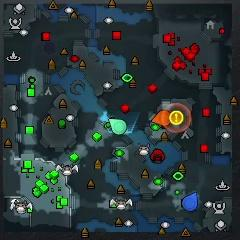Other: (170, 110, 184, 126)
p1: (183, 192, 198, 211)
p2: (109, 118, 126, 135)
p5: (153, 111, 172, 127)
